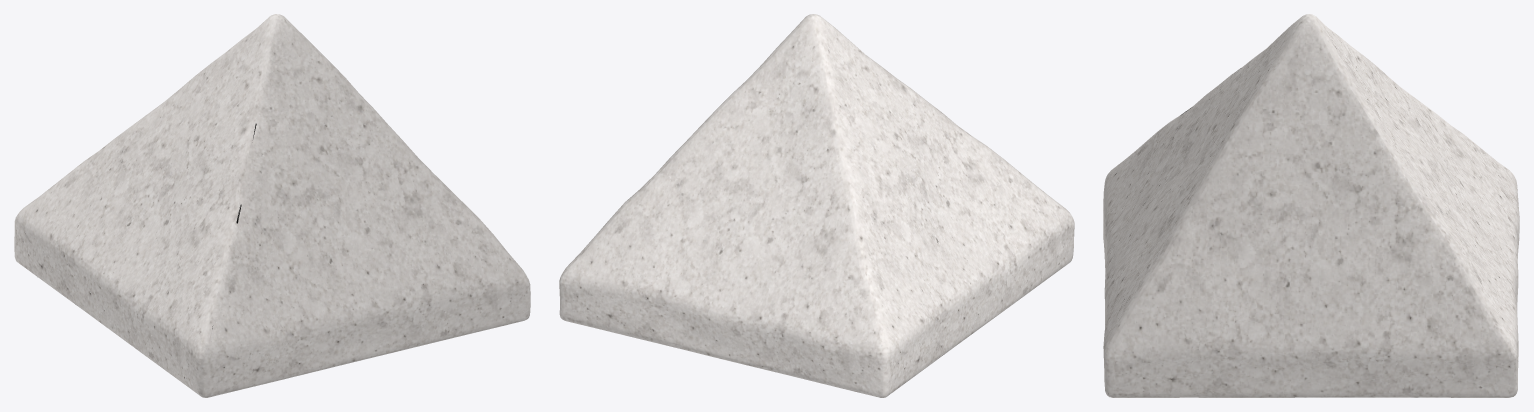
File: tak-capstone-white.glb
The picture shows the model from 3 angles, left to right: view 1: azimuth 30°, elevation 25°; view 2: azimuth 150°, elevation 25°; view 3: azimuth 270°, elevation 25°; orthographic projection. The views are drawn at different scales.
Parts seen in each view (by area): view 1: tak-capstone-white; view 2: tak-capstone-white; view 3: tak-capstone-white.
Part boxes in pixels (bbox=[...]): tak-capstone-white: bbox=[14, 14, 530, 397]; tak-capstone-white: bbox=[559, 14, 1074, 397]; tak-capstone-white: bbox=[1103, 14, 1519, 397].
Size of the model in its own units: 0.0283 by 0.0224 by 0.0283.
Materials: 1 (1 with a texture image).
